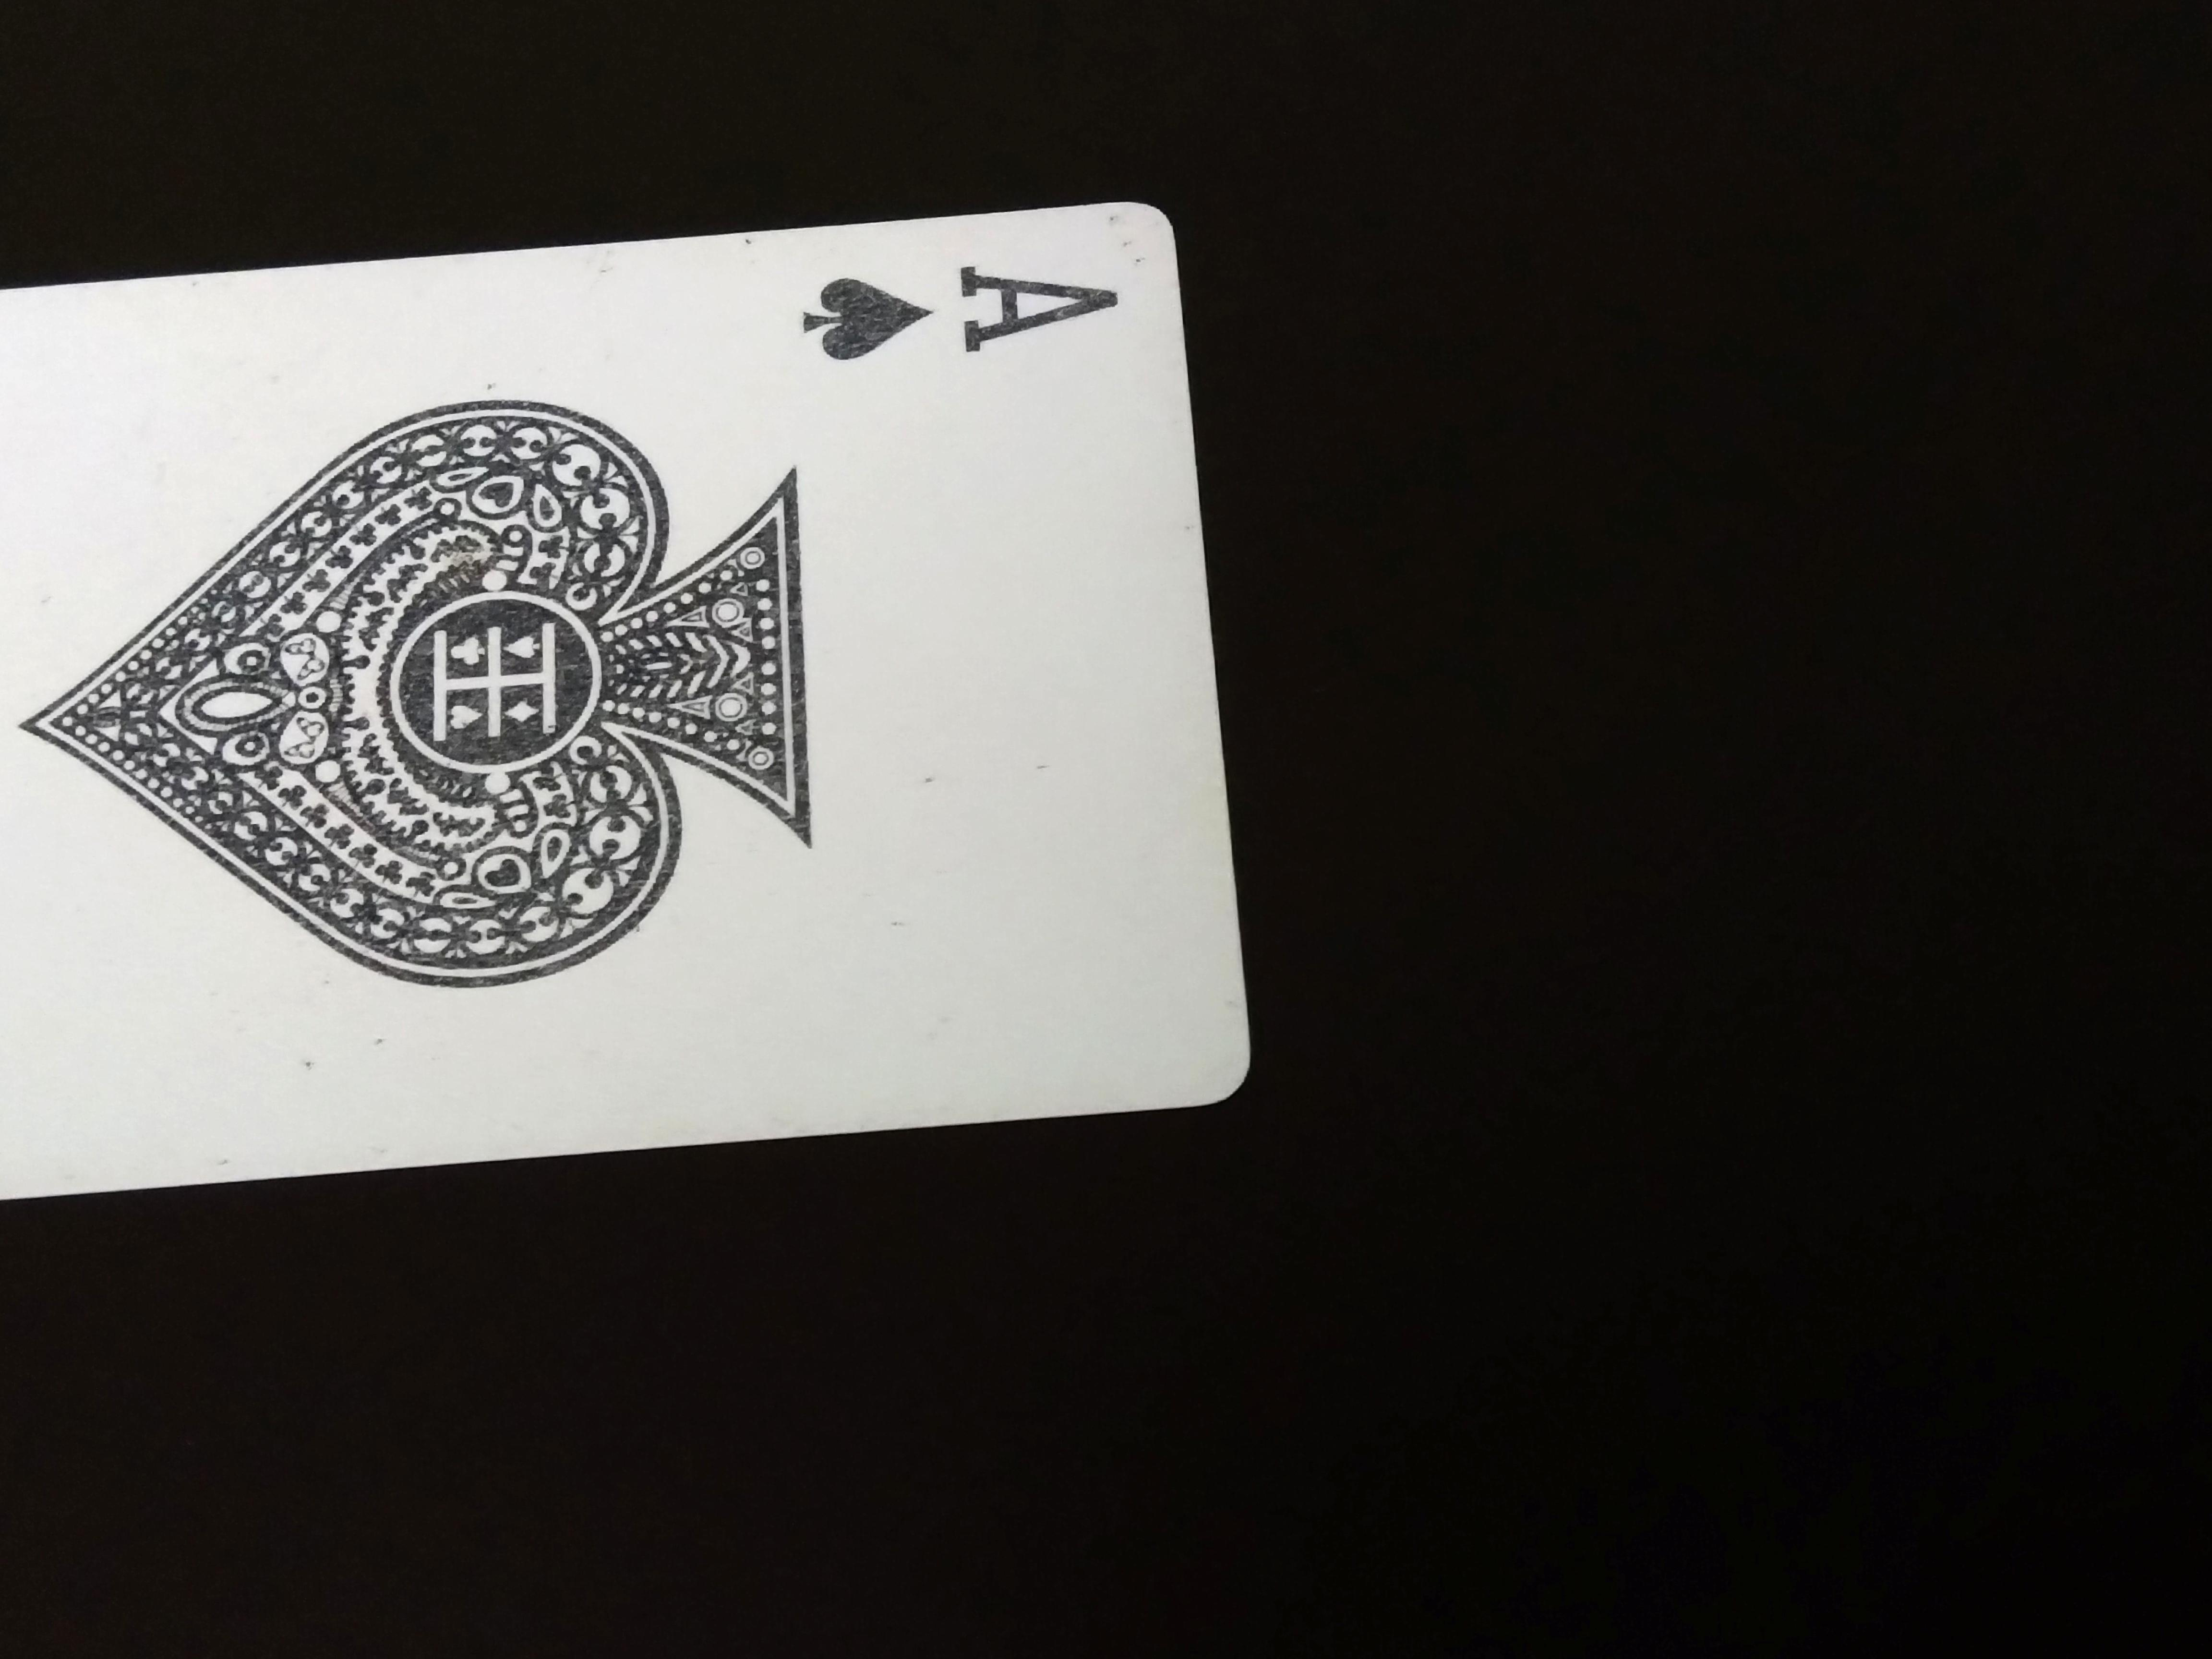AS: (789, 251, 1134, 387)
